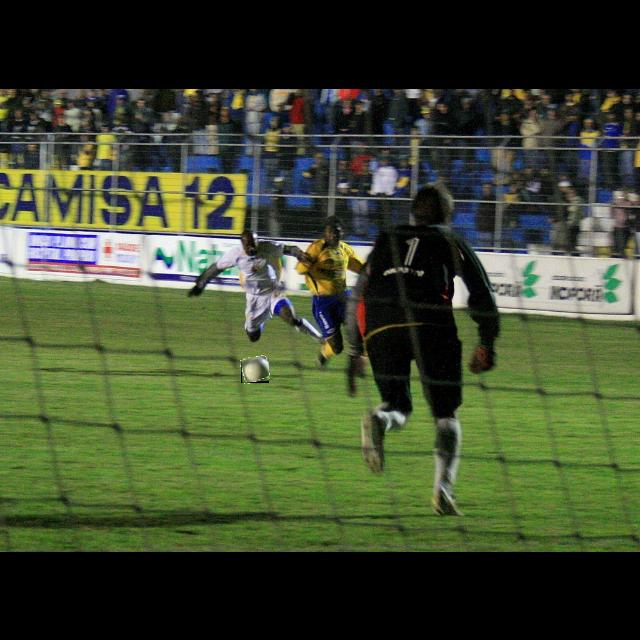Football: (241, 357, 269, 383)
